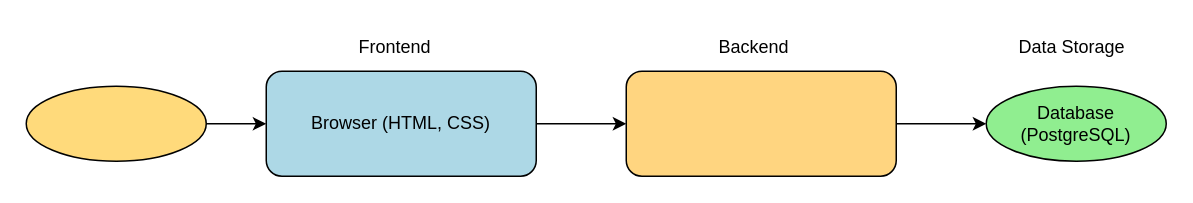
This 1193x203 diagram has some shape labels left out. Each missing label, with the box of its shape:
Server (Django): (625, 70, 896, 176)
User: (25, 85, 206, 161)
